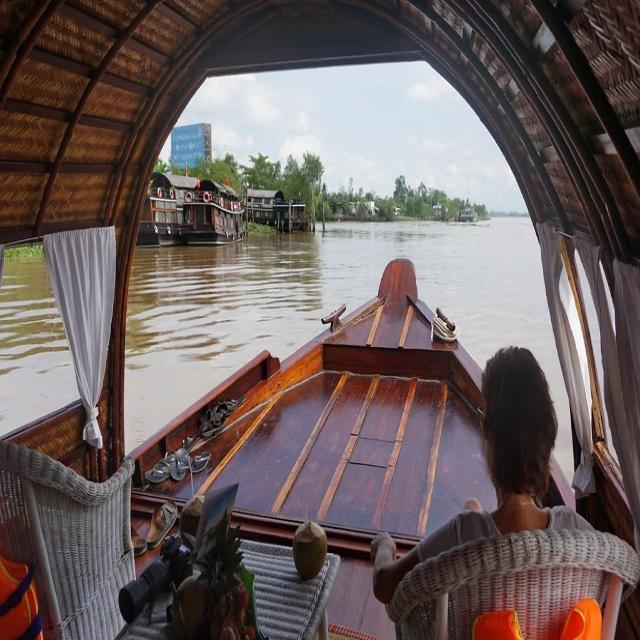boat: (178, 174, 242, 249)
